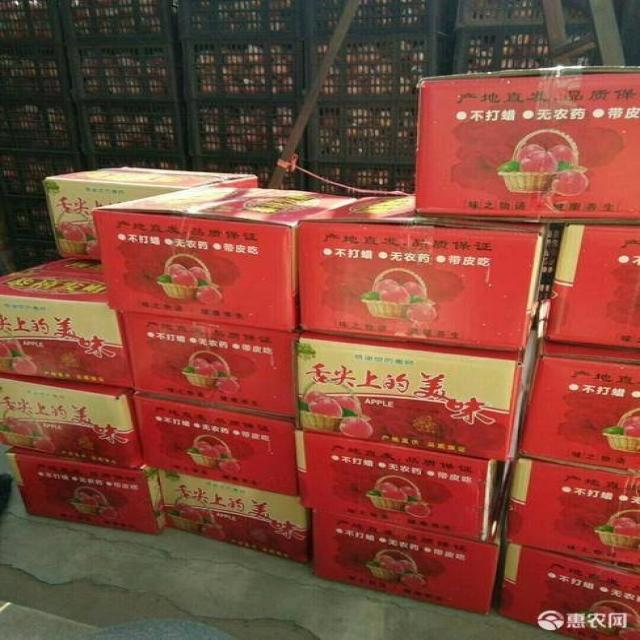box: (91, 186, 359, 332), (298, 197, 550, 352), (415, 66, 639, 222), (295, 331, 530, 462), (294, 430, 507, 543), (313, 509, 502, 615), (43, 167, 258, 260), (120, 310, 302, 418), (133, 390, 298, 497), (0, 258, 134, 387), (518, 340, 639, 474), (502, 457, 639, 572), (158, 466, 313, 564), (5, 446, 166, 535), (0, 373, 143, 469), (499, 542, 639, 639), (545, 223, 639, 349)
